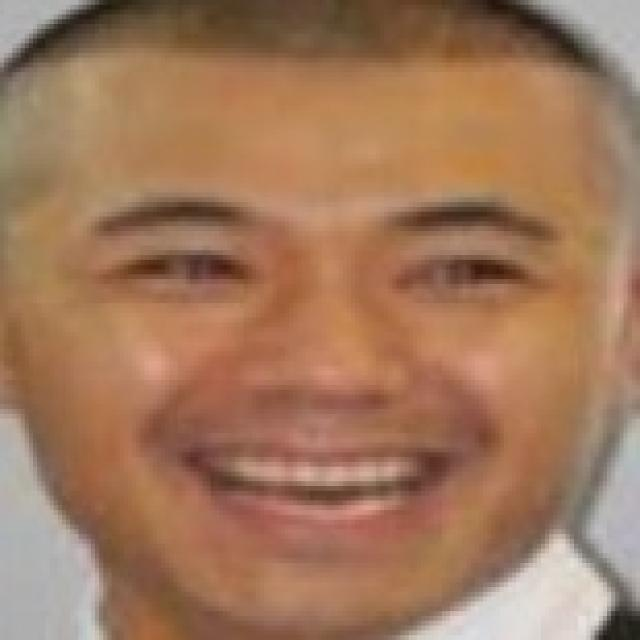no_mask: (28, 47, 616, 620)
